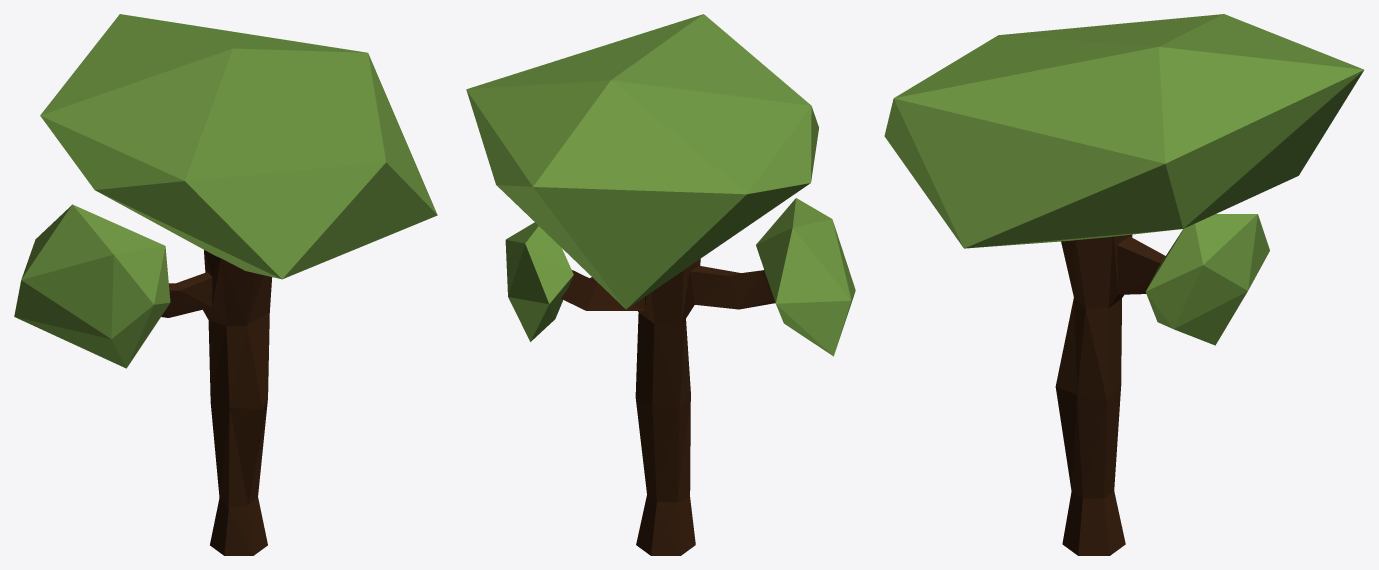
File: Tree.dae
3 views of the same model, side by side, from view 1: azimuth 30°, elevation 25°; view 2: azimuth 150°, elevation 25°; view 3: azimuth 270°, elevation 25° (orthographic). The views are drawn at different scales.
Parts seen in each view (by area): view 1: Cylinder; view 2: Cylinder; view 3: Cylinder.
Boxes of the visible parts, <box> form: Cylinder: <box>14,14,437,555</box>; Cylinder: <box>466,14,855,555</box>; Cylinder: <box>884,14,1363,555</box>.
Size of the model in its own units: 5.3 by 5.61 by 6.57.
